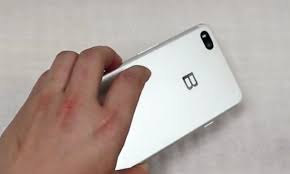bphone: (81, 21, 248, 171)
